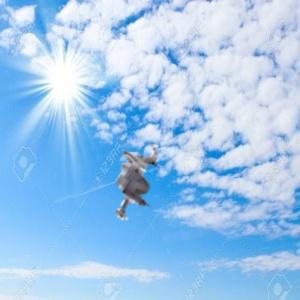drone: (88, 138, 191, 241)
